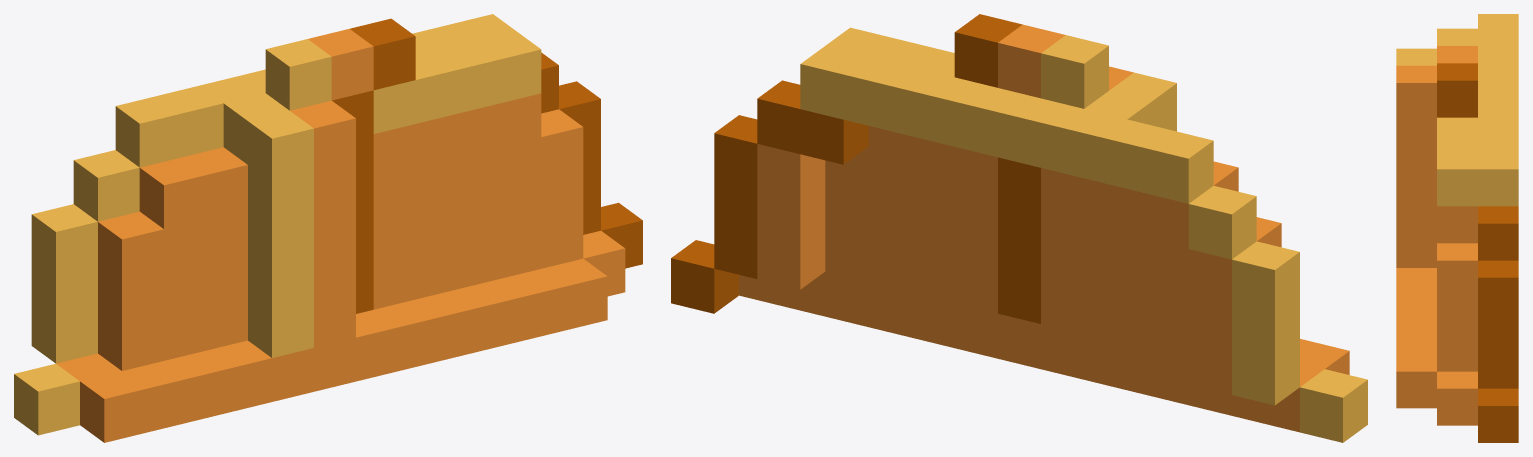
Rendered from bear-4.obj.
3 views of the same model, side by side, from view 1: azimuth 30°, elevation 25°; view 2: azimuth 150°, elevation 25°; view 3: azimuth 270°, elevation 25° (orthographic). The views are drawn at different scales.
Bounding box in the file's own units: 1.5 × 0.7 × 0.3.
1 material, 1 textured.
